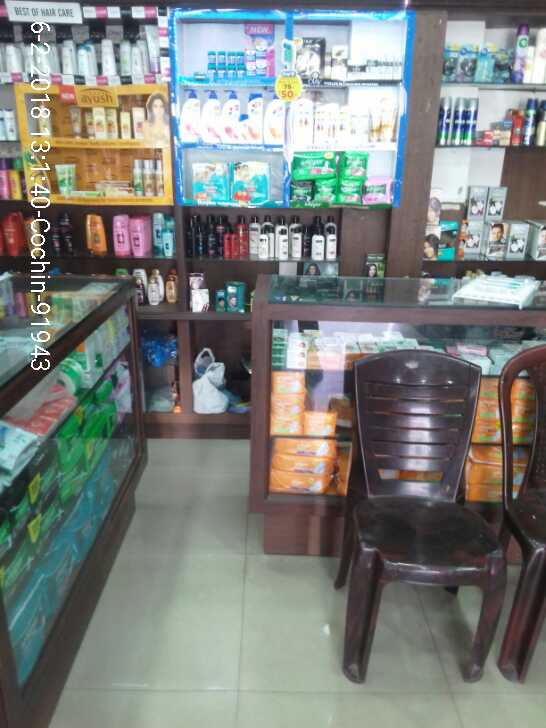vicks: (202, 44, 275, 83)
